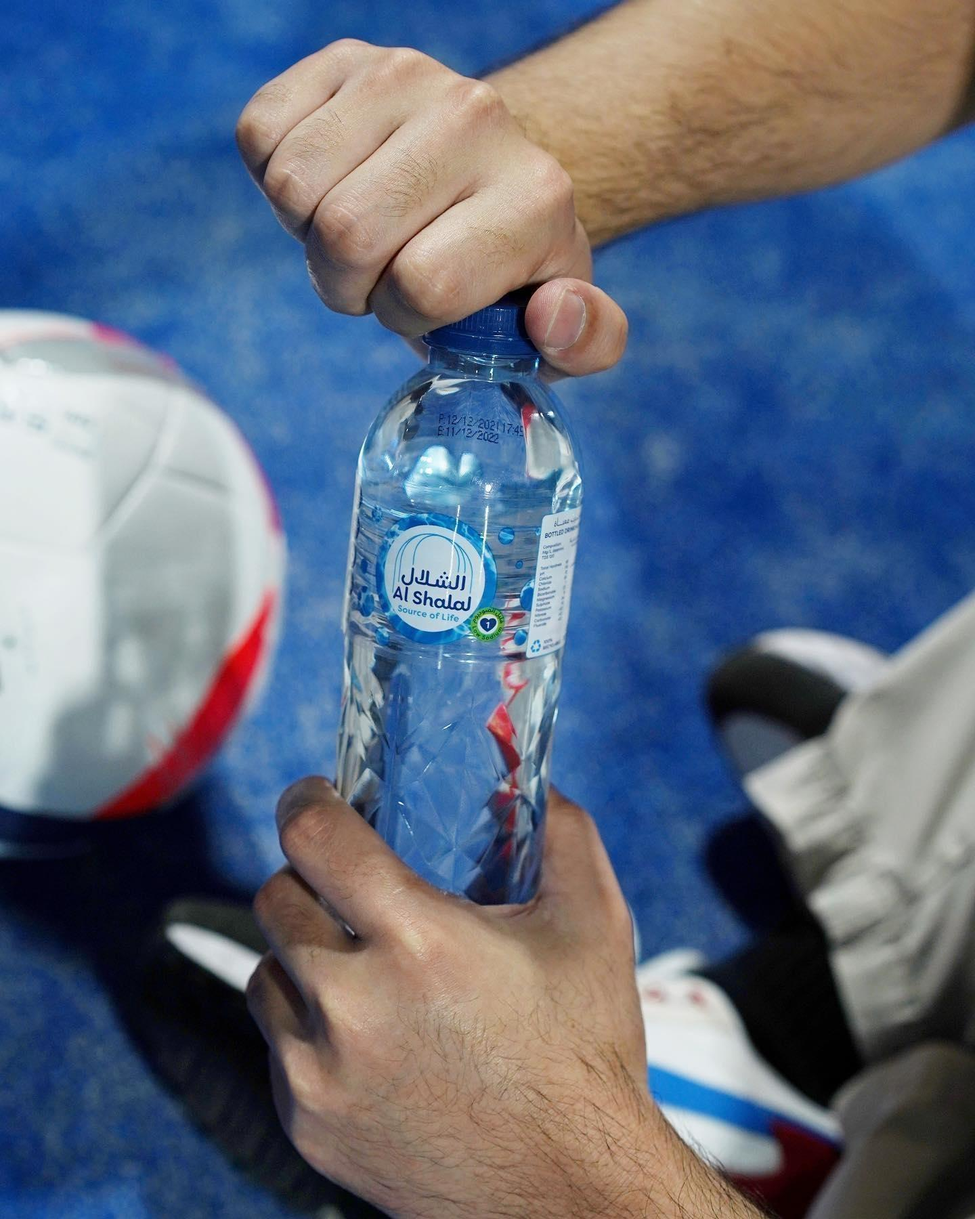bottle-plastic: (322, 292, 590, 918)
